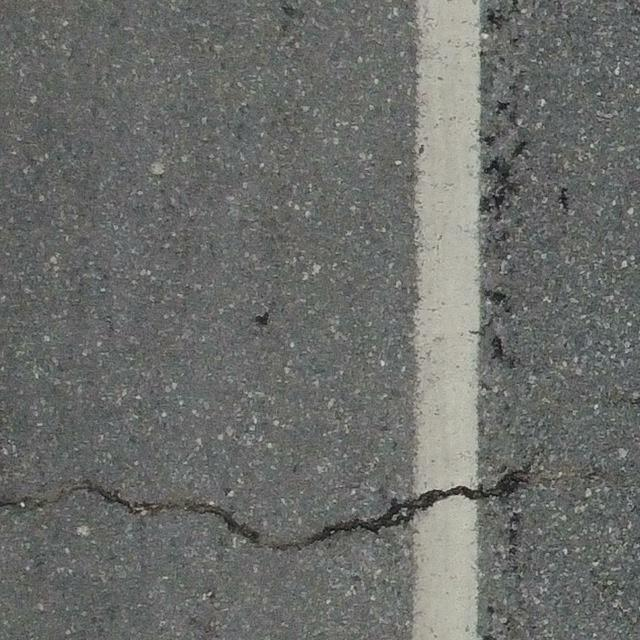TransverseCrack: (1, 462, 535, 550)
